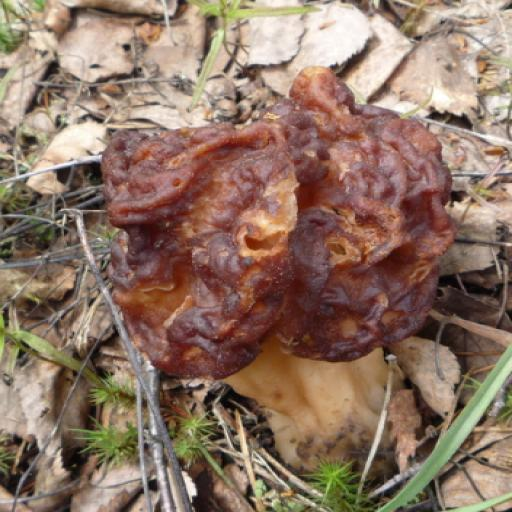mushroom: (105, 61, 499, 492)
